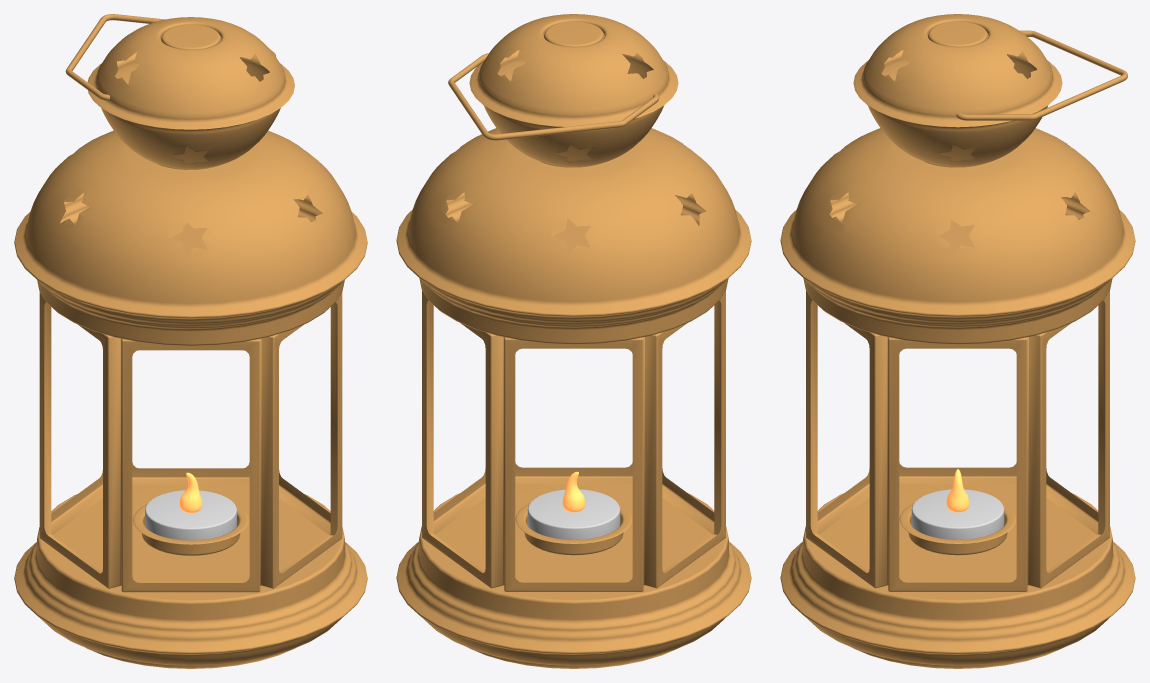
The model's file is asset.gltf.
3 views of the same model, side by side, from view 1: azimuth 30°, elevation 25°; view 2: azimuth 150°, elevation 25°; view 3: azimuth 270°, elevation 25° (orthographic).
Visible parts, largest first — view 1: upper_base, lower_base, metal_framessides, candel, handel, candel_light; view 2: upper_base, lower_base, metal_framessides, candel, handel, candel_light; view 3: upper_base, lower_base, metal_framessides, candel, handel, candel_light.
Part boxes in pixels (box(x1,y1,x2,y2)): upper_base: box(14, 17, 367, 345); lower_base: box(14, 484, 367, 668); metal_framessides: box(39, 292, 342, 592); candel: box(145, 490, 236, 540); handel: box(65, 14, 275, 100); candel_light: box(179, 472, 202, 512); upper_base: box(396, 14, 751, 344); lower_base: box(396, 484, 751, 668); metal_framessides: box(422, 290, 725, 591); candel: box(527, 489, 620, 539); handel: box(448, 53, 659, 140); candel_light: box(562, 471, 585, 512); upper_base: box(780, 14, 1135, 344); lower_base: box(780, 484, 1135, 668); metal_framessides: box(806, 290, 1109, 591); candel: box(911, 489, 1004, 539); handel: box(956, 30, 1127, 120); candel_light: box(946, 469, 969, 512).
Bounding box in the file's own units: 115 × 206 × 115.
